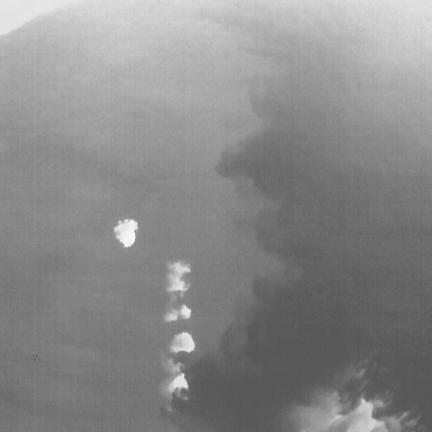flukeprints: (167, 263, 190, 294), (114, 219, 138, 247), (165, 373, 188, 397), (169, 332, 194, 353), (178, 305, 191, 318)
